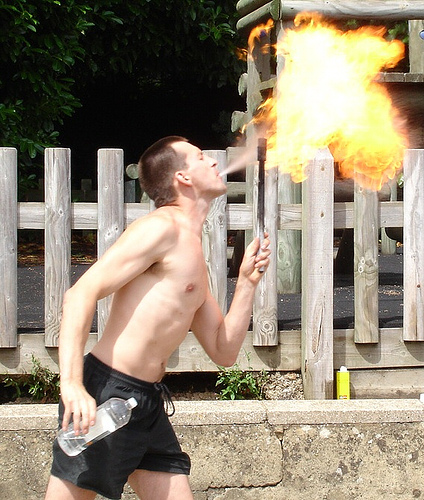fire: (232, 14, 406, 190)
